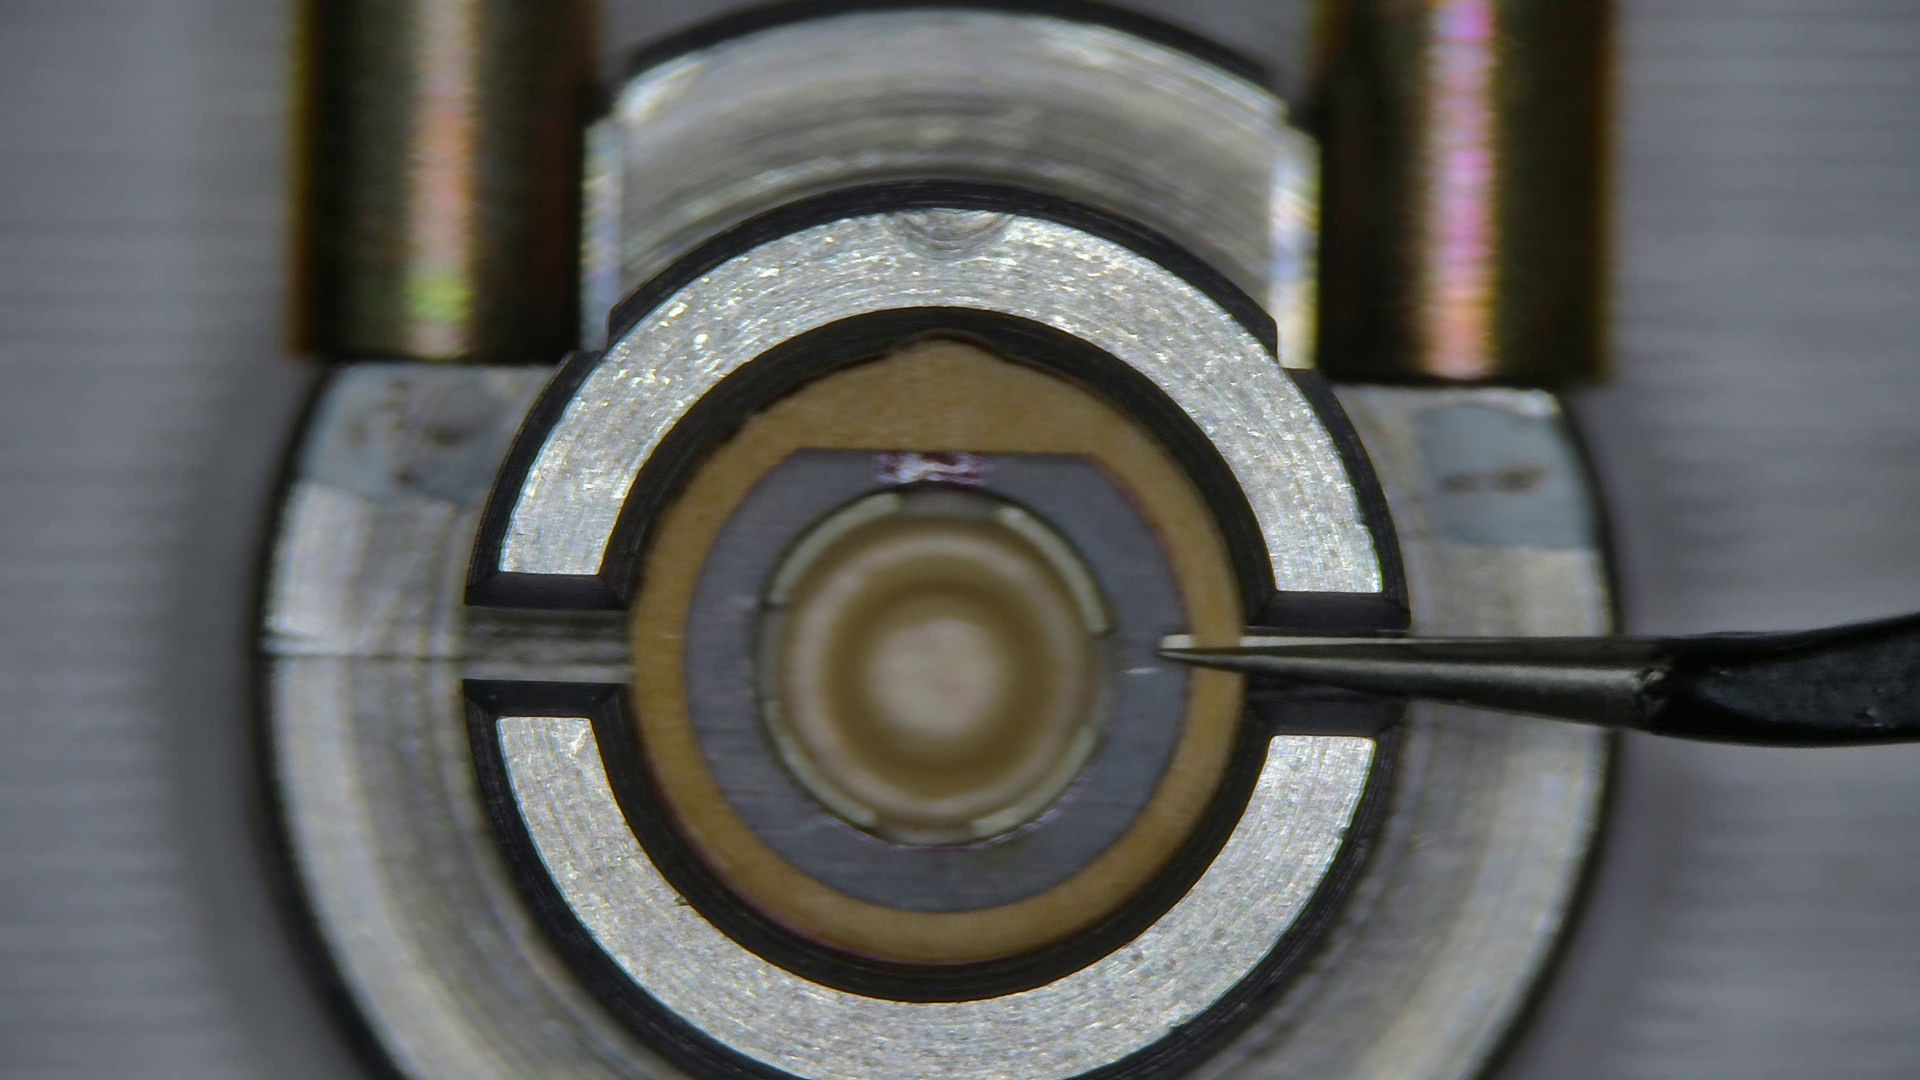YellowOring: (687, 448, 1184, 913)
redOring: (632, 342, 1244, 963)
